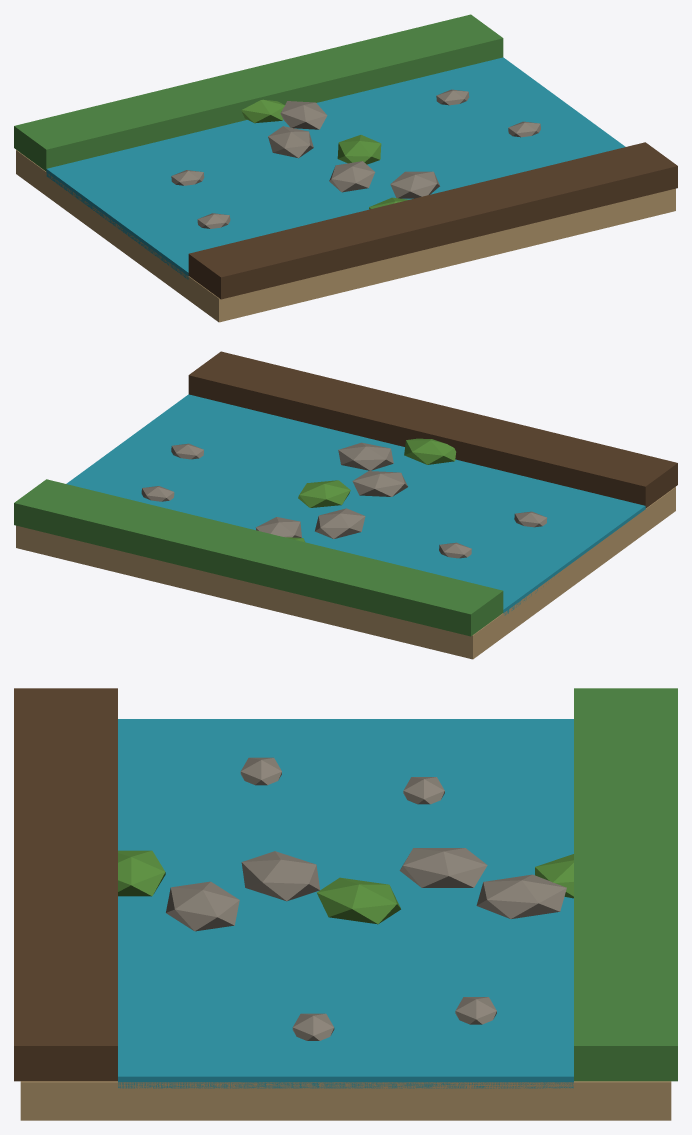
Rendered from river_stepping_stones.glb.
The picture shows the model from 3 angles, top to bottom: view 1: azimuth 30°, elevation 25°; view 2: azimuth 150°, elevation 25°; view 3: azimuth 270°, elevation 25°; orthographic projection. The views are drawn at different scales.
Parts seen in each view (by area): view 1: ShallowRiver, NearBank, FarBank, TerrainBase, SteppingStone1, SteppingStone4, SteppingStone2, SteppingStone5, SteppingStone3, SteppingStone6; view 2: ShallowRiver, FarBank, NearBank, TerrainBase, SteppingStone1, SteppingStone2, SteppingStone4, SteppingStone3, SteppingStone0, SteppingStone5; view 3: ShallowRiver, FarBank, NearBank, TerrainBase, SteppingStone5, SteppingStone2, SteppingStone3, SteppingStone4, SteppingStone1, SteppingStone0, SteppingStone6, RiverPebble0 (+3 smaller).
Part boxes in pixels (x1,y1,x2,y2): ShallowRiver: (46, 57, 625, 279); NearBank: (188, 142, 677, 299); FarBank: (14, 14, 503, 171); TerrainBase: (16, 150, 675, 322); SteppingStone1: (390, 171, 439, 198); SteppingStone4: (268, 126, 313, 158); SteppingStone2: (329, 161, 375, 192); SteppingStone5: (280, 101, 327, 129); SteppingStone3: (337, 135, 381, 164); SteppingStone6: (241, 99, 284, 123); ShallowRiver: (66, 394, 645, 615); FarBank: (14, 479, 503, 636); NearBank: (188, 351, 677, 508); TerrainBase: (16, 487, 675, 659); SteppingStone1: (338, 442, 393, 470); SteppingStone2: (352, 471, 407, 496); SteppingStone4: (315, 508, 365, 538); SteppingStone3: (298, 480, 350, 507); SteppingStone0: (404, 438, 456, 464); SteppingStone5: (255, 517, 301, 537); ShallowRiver: (118, 719, 573, 1088); FarBank: (574, 688, 677, 1081); NearBank: (14, 688, 117, 1081); TerrainBase: (20, 1081, 671, 1120); SteppingStone5: (476, 874, 566, 918); SteppingStone2: (241, 851, 319, 901); SteppingStone3: (317, 877, 400, 924); SteppingStone4: (399, 848, 487, 887); SteppingStone1: (166, 881, 239, 931); SteppingStone0: (118, 850, 165, 896); SteppingStone6: (535, 854, 573, 898); RiverPebble0: (240, 757, 281, 785).
Bounding box in the file's own units: 13 × 1.27 × 10.2.
